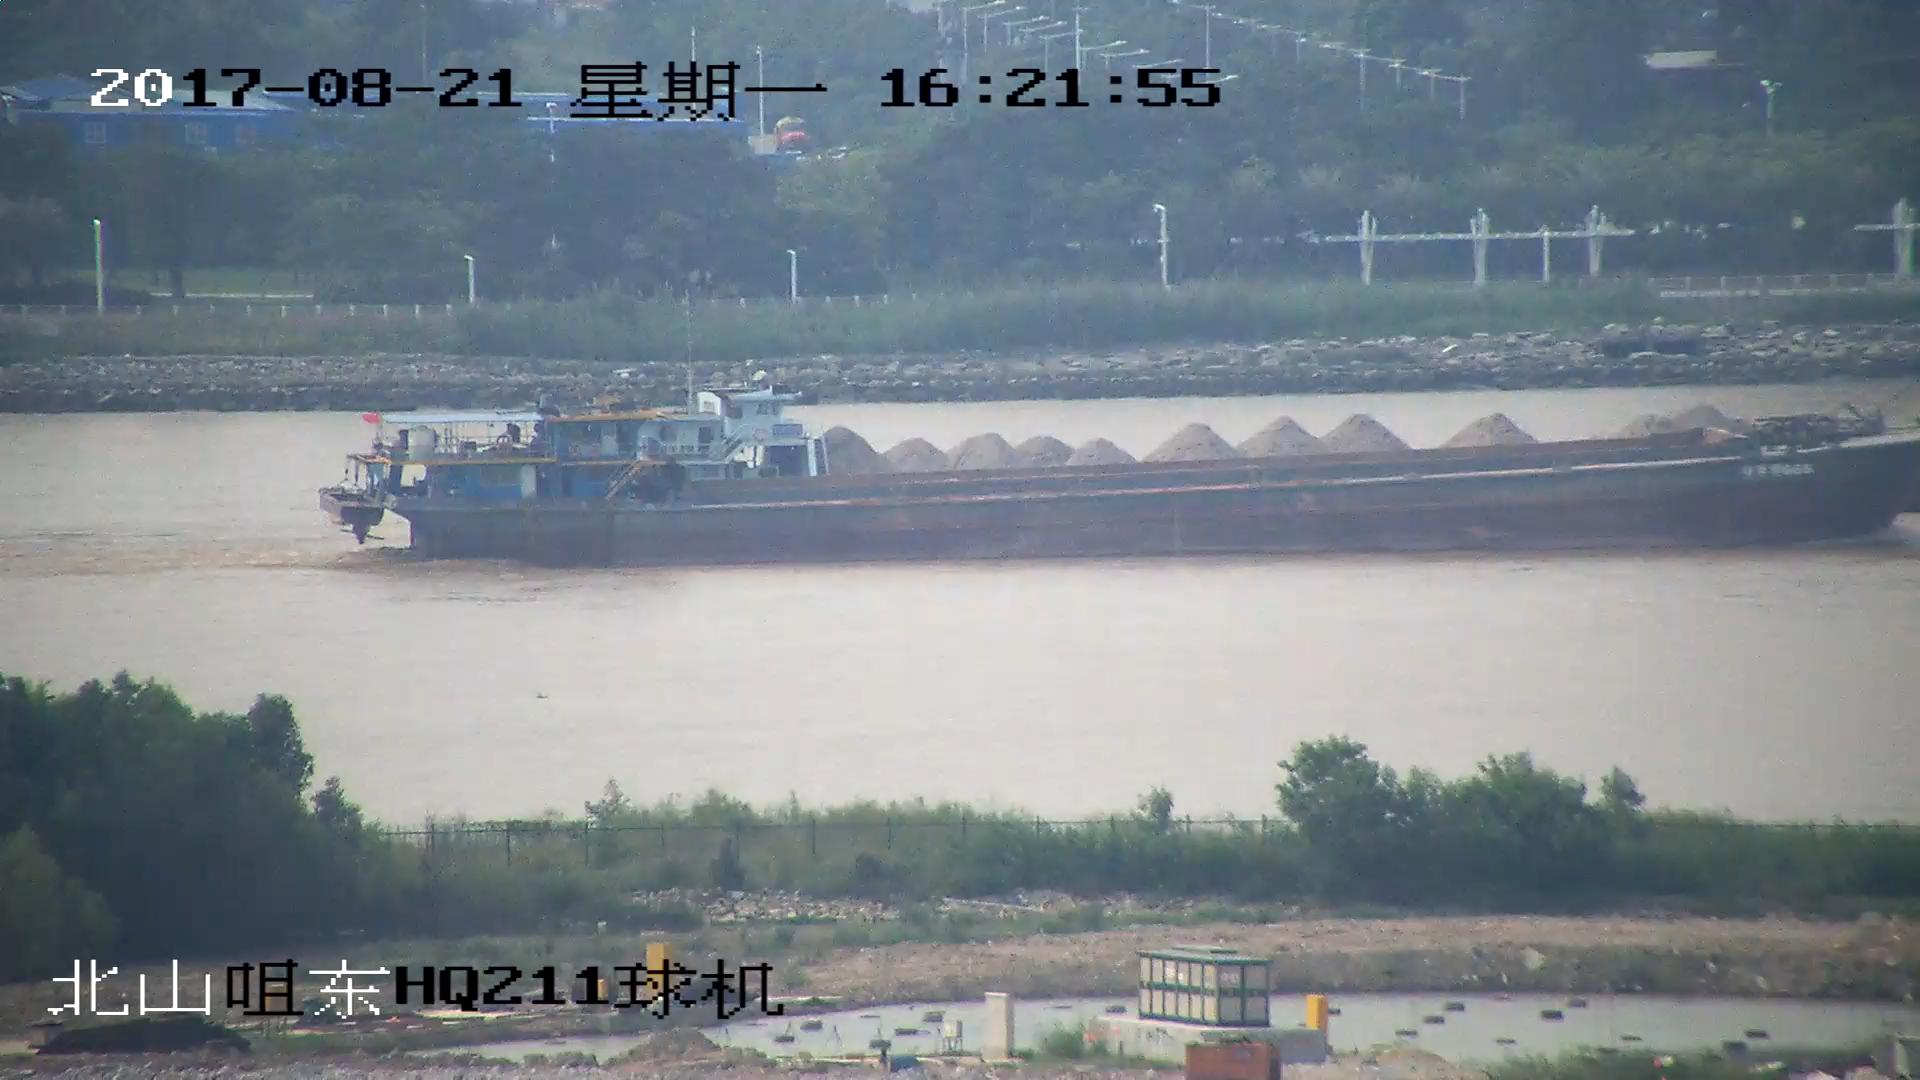bulk cargo carrier: (319, 412, 1920, 564)
ore carrier: (536, 391, 1920, 478)
